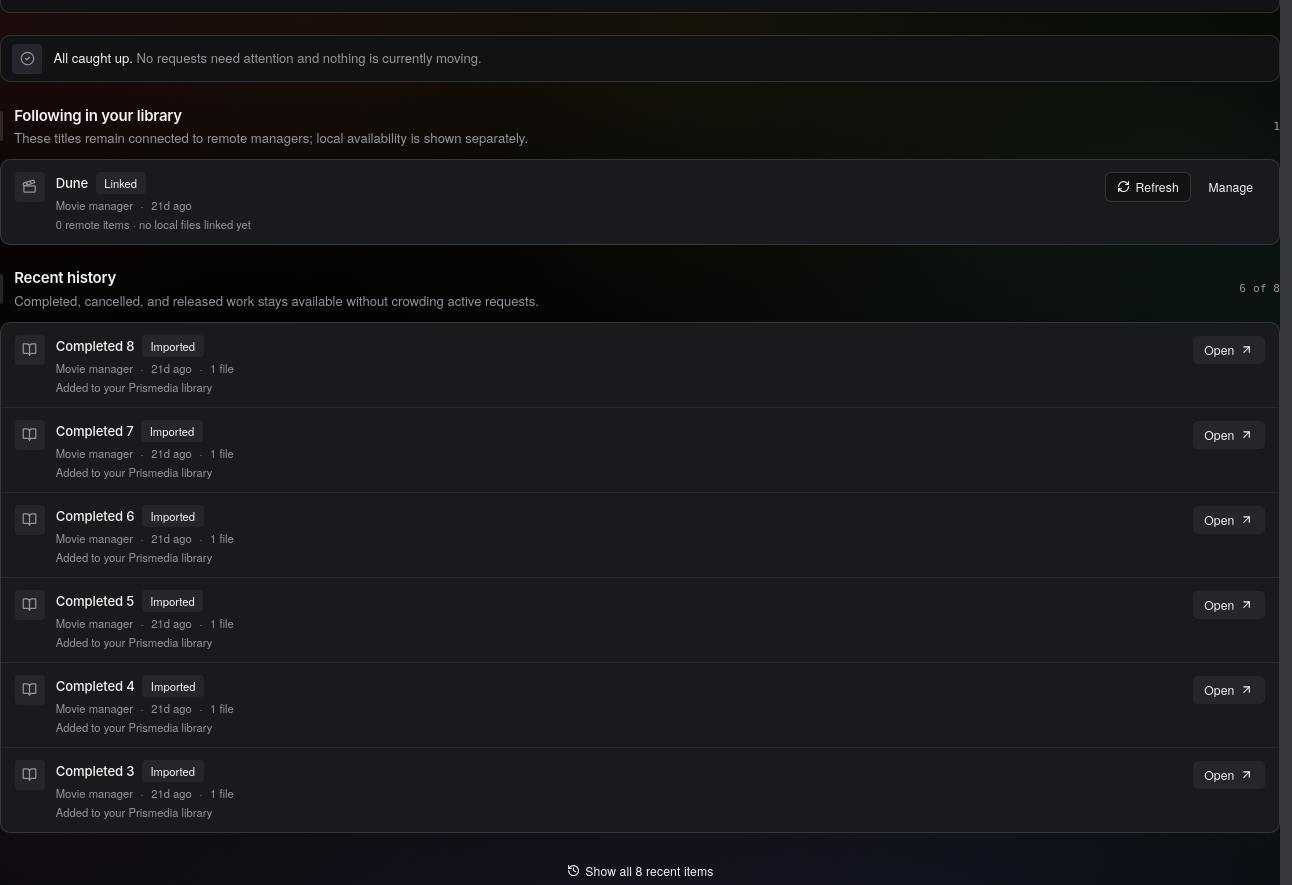
request activity › deduplicates tracked requests and caps history beneath priority sections
(page scrolled)
Check: the heading "Dune" is shown, box [56, 174, 88, 193]
Check: the heading "Following in your library" is shown, box [14, 106, 182, 124]
Click the button "Show all 8 recent items": x=640, y=870 [554, 855, 726, 884]
(page scrolled)
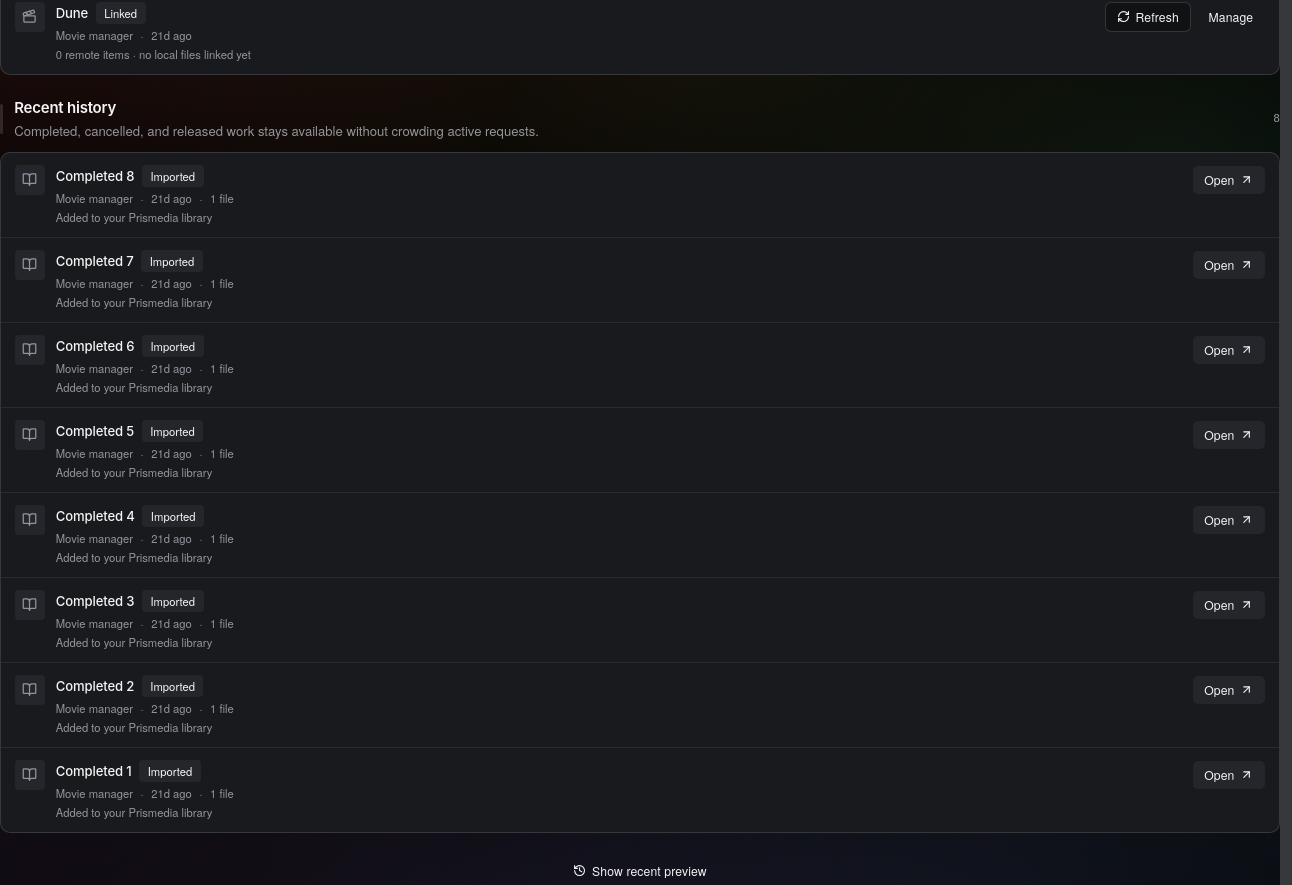
Check: the heading "Completed 1" is shown, box [56, 762, 132, 780]
